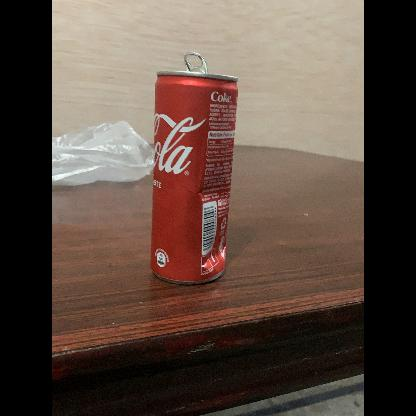Dent_Can: (196, 238, 226, 276), (193, 173, 229, 202)
Lid_Open: (178, 49, 212, 81)
Tin_Can: (146, 51, 242, 289)
